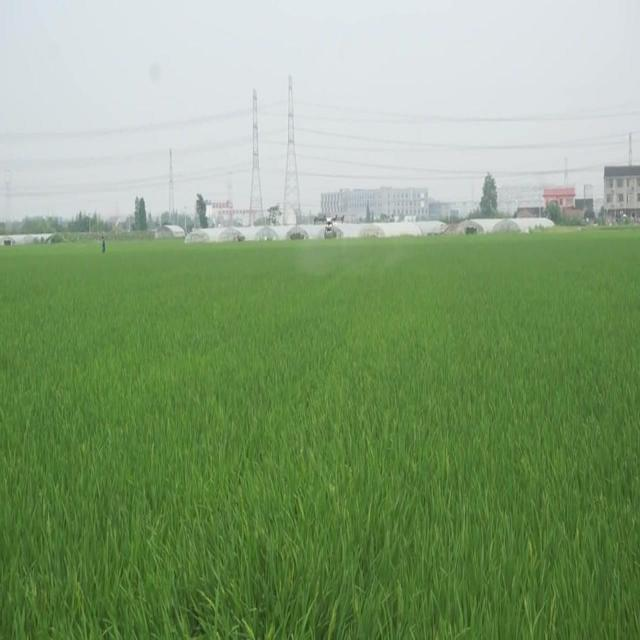UAV: (311, 208, 345, 239)
